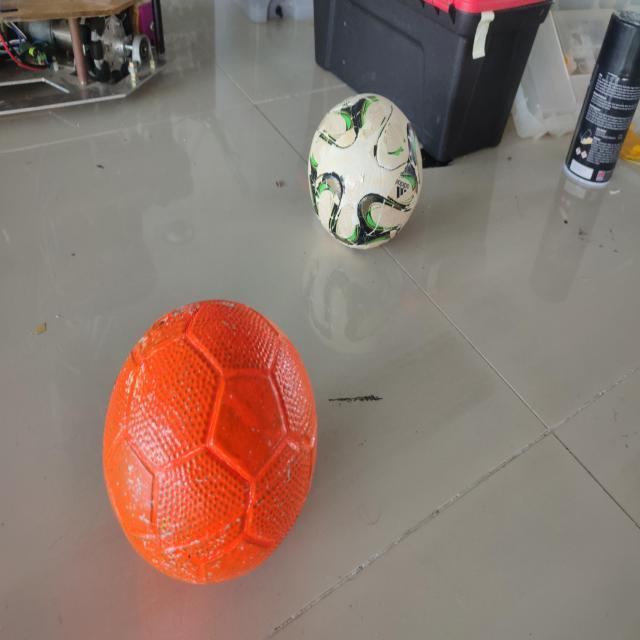bola: (82, 290, 334, 598)
